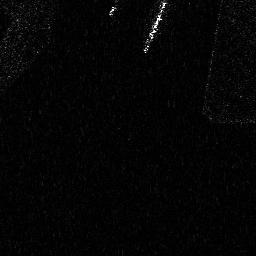ship: (142, 1, 168, 55)
